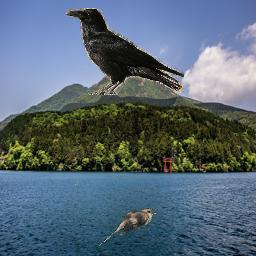Crow: (66, 8, 184, 95)
Cuckoo: (97, 208, 158, 247)
